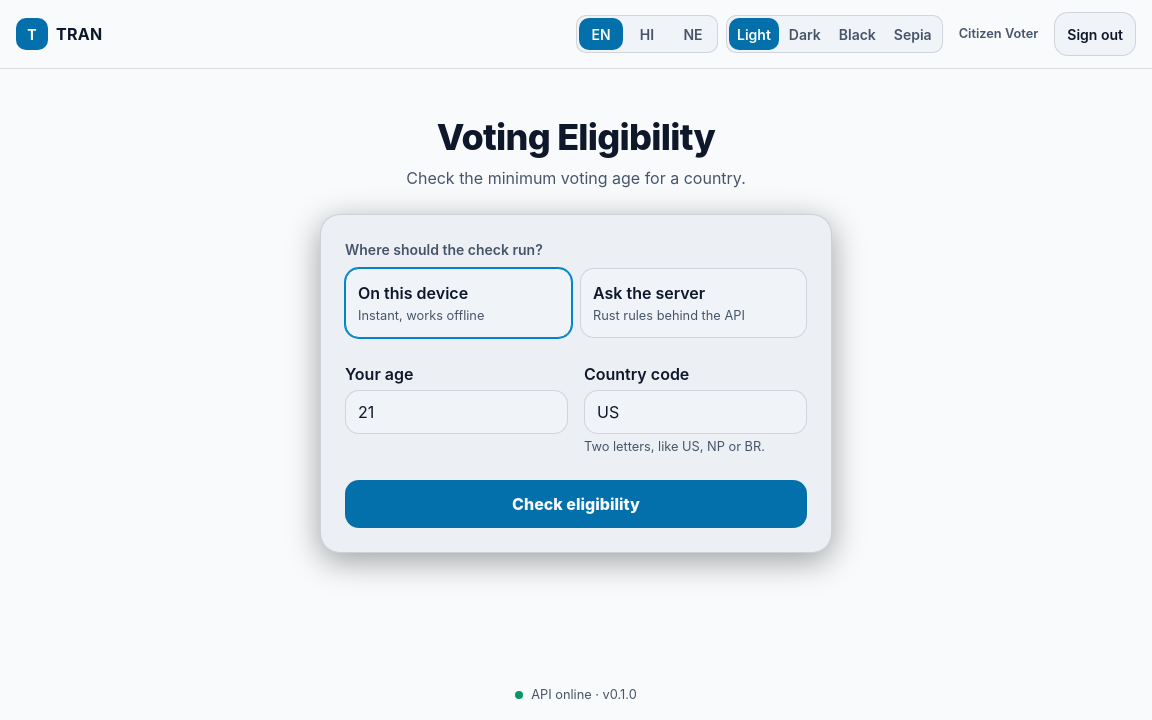
Test: App: shell › switches language and marks the active one
Expected: the text "API online · v0.1.0" is shown, [515, 686, 637, 704]
Click the button "NE" at (693, 34), box [671, 18, 715, 50]
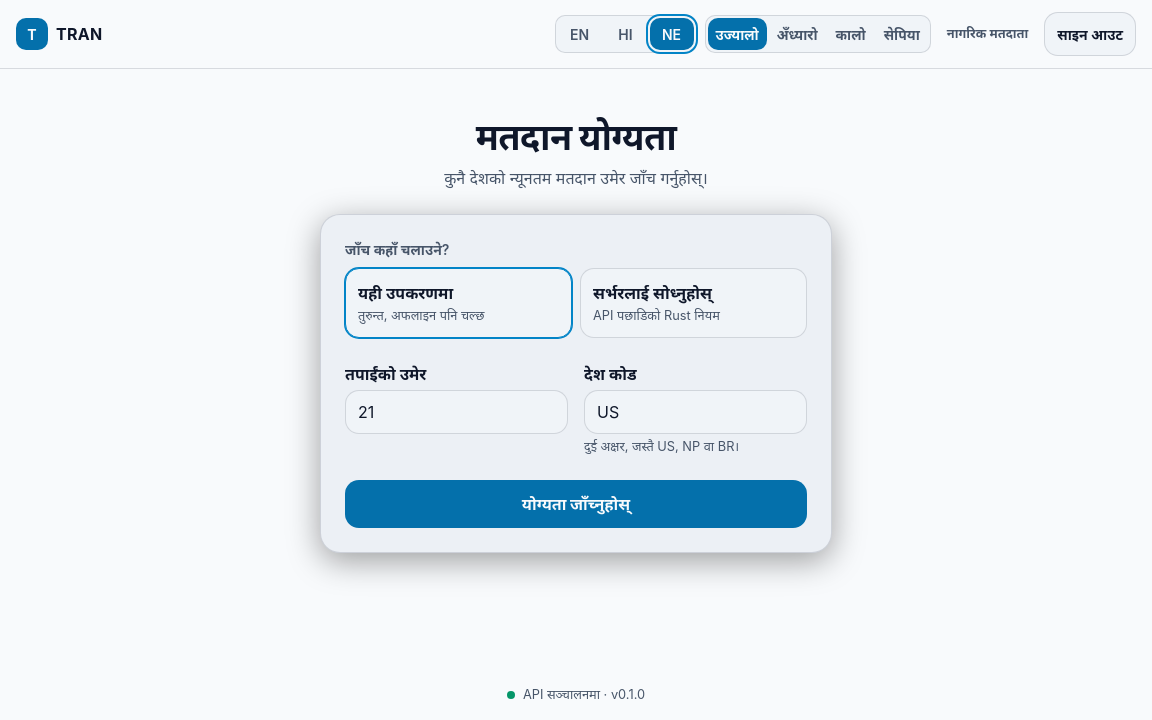
Expected: the heading "मतदान योग्यता" is shown, [476, 115, 676, 159]
Click the button "EN" at (580, 34), box [558, 18, 602, 50]
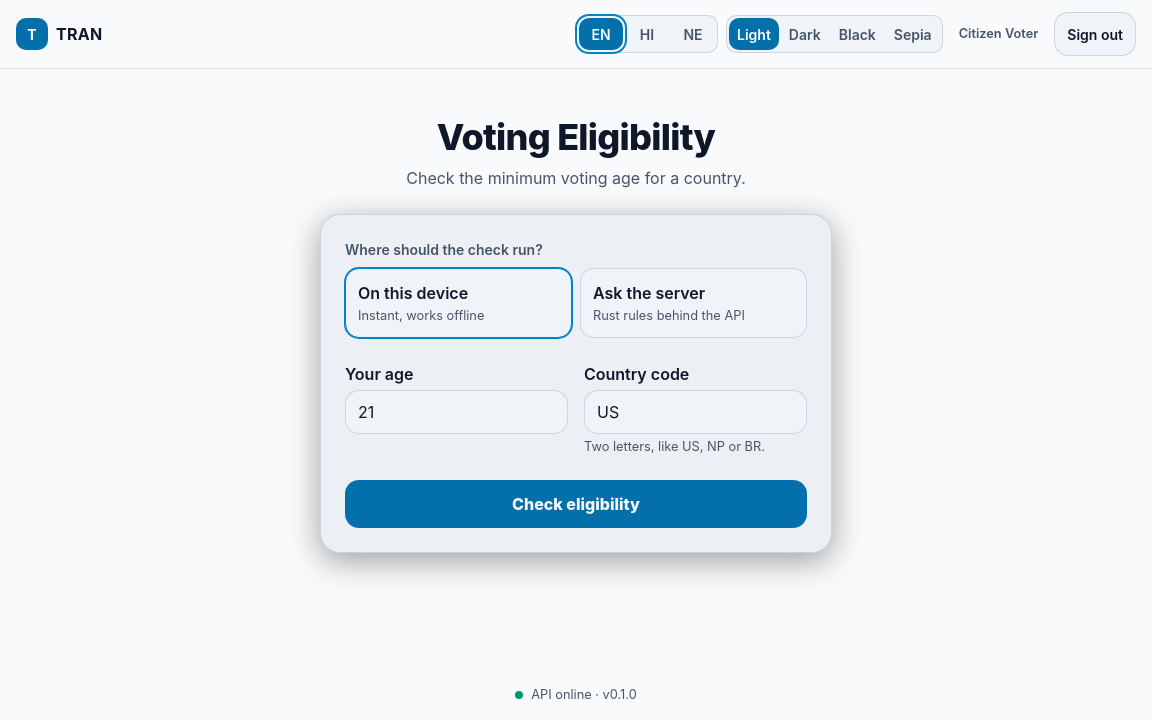
Expected: the heading "Voting Eligibility" is shown, [437, 115, 715, 159]
